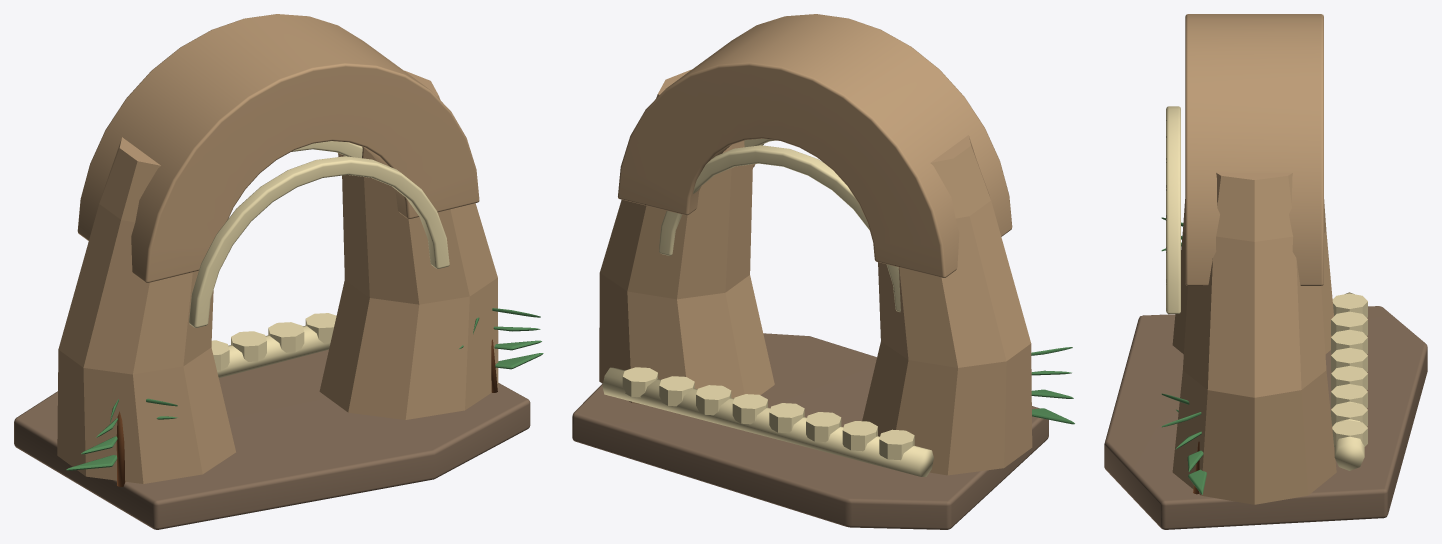
File: dino-fossil-arch.glb
3 renders of one model, left to right at view 1: azimuth 30°, elevation 25°; view 2: azimuth 150°, elevation 25°; view 3: azimuth 270°, elevation 25°, orthographic.
Visible parts, largest first — view 1: Structure; view 2: Structure; view 3: Structure.
Part boxes in pixels (x1,y1,x2,y2): Structure: [14, 14, 543, 529]; Structure: [572, 14, 1074, 529]; Structure: [1104, 14, 1427, 529].
Bounding box in the file's own units: 4.74 × 3.81 × 2.8.
